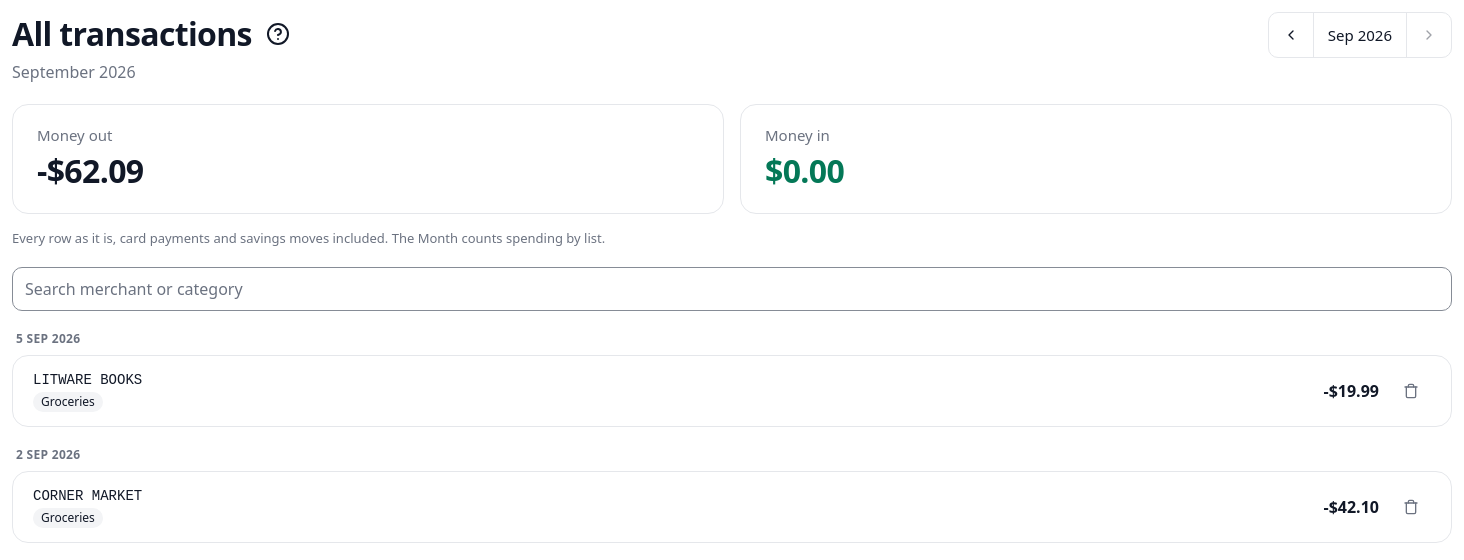
Scenario: LedgerScreen, changing your mind about a removal › puts the bin back on Escape, with the focus, and removes nothing
Expected: the text "CORNER MARKET" is shown, [33,488,142,504]
Click the button named "Remove this transaction" in the row of "CORNER MARKET" at (1411, 507), box [1391,487,1431,527]
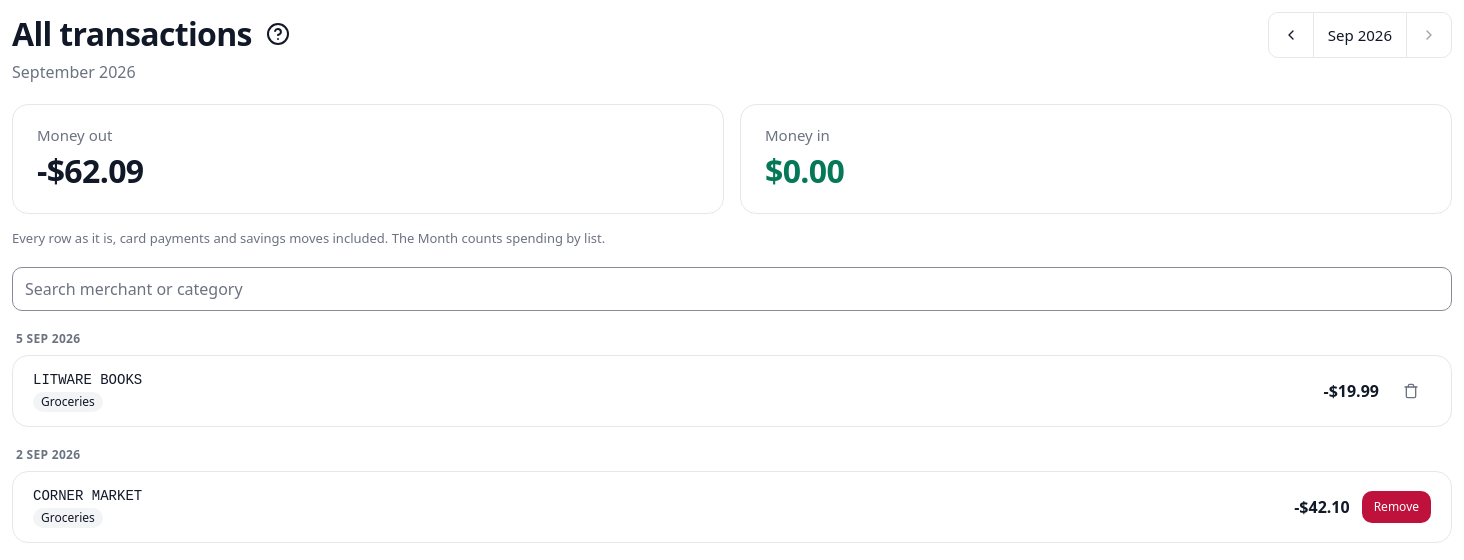
Press Escape in the button "Remove", box [1362,491,1431,523]
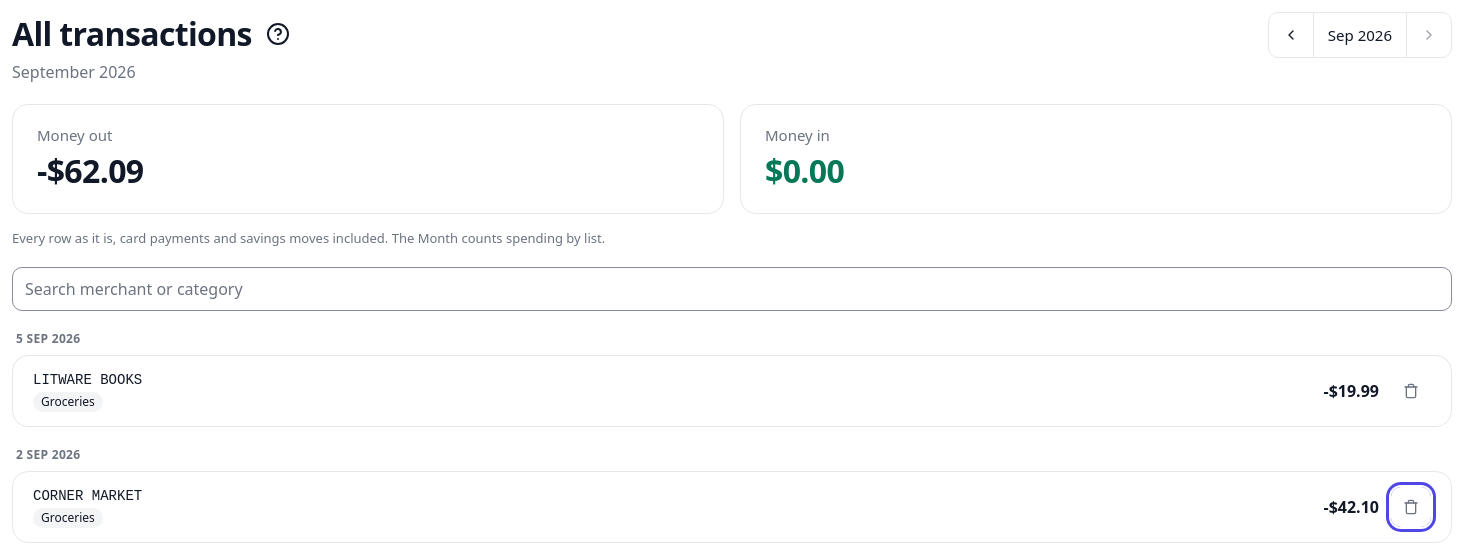
Now the button "Remove" is gone
